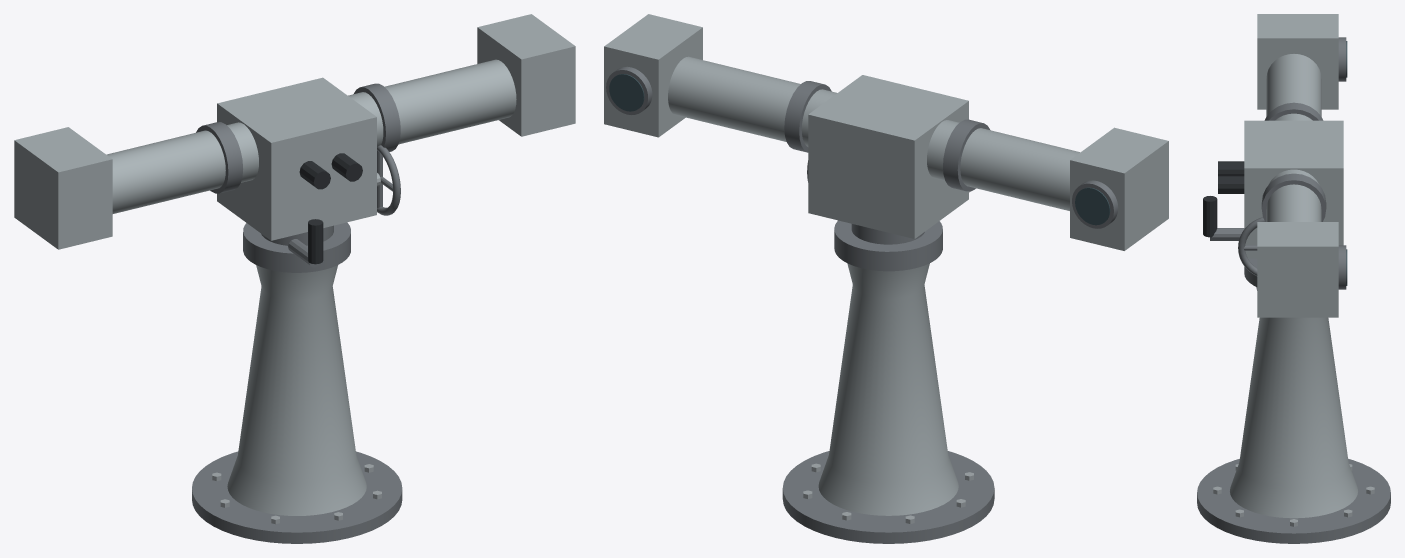
3 renders of one model, left to right at view 1: azimuth 30°, elevation 25°; view 2: azimuth 150°, elevation 25°; view 3: azimuth 270°, elevation 25°, orthographic. The views are drawn at different scales.
Visible parts, largest first — view 1: component.yaw.mesh, component.root.mesh; view 2: component.yaw.mesh, component.root.mesh; view 3: component.yaw.mesh, component.root.mesh.
Part boxes in pixels (x1,y1,x2,y2): component.yaw.mesh: [14, 14, 575, 267]; component.root.mesh: [192, 222, 402, 543]; component.yaw.mesh: [604, 14, 1168, 250]; component.root.mesh: [782, 220, 994, 543]; component.yaw.mesh: [1203, 14, 1347, 317]; component.root.mesh: [1197, 258, 1390, 543].
Size of the model in its own units: 2.1 by 1.57 by 0.74.
